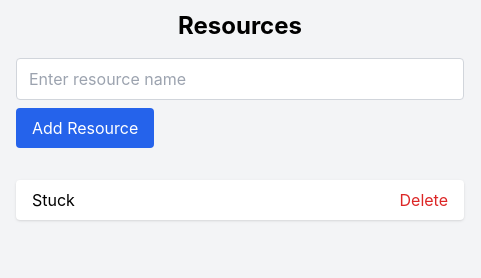
Test: Resources Page › keeps the resource and shows an error when the deletion fails
Expected: the list item "Stuck" is shown, [32, 190, 75, 210]
Step 1. Click the button "Delete" → (424, 200), box [400, 188, 448, 212]
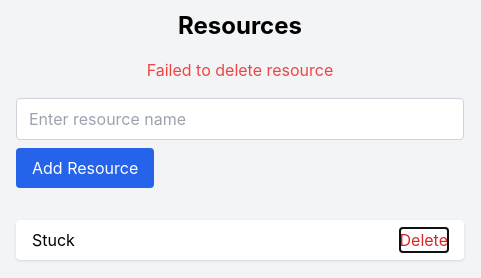
Expected: the list item "Stuck" is shown, [32, 230, 75, 250]
Now the text "Failed to delete resource" is shown, box [147, 58, 333, 82]
